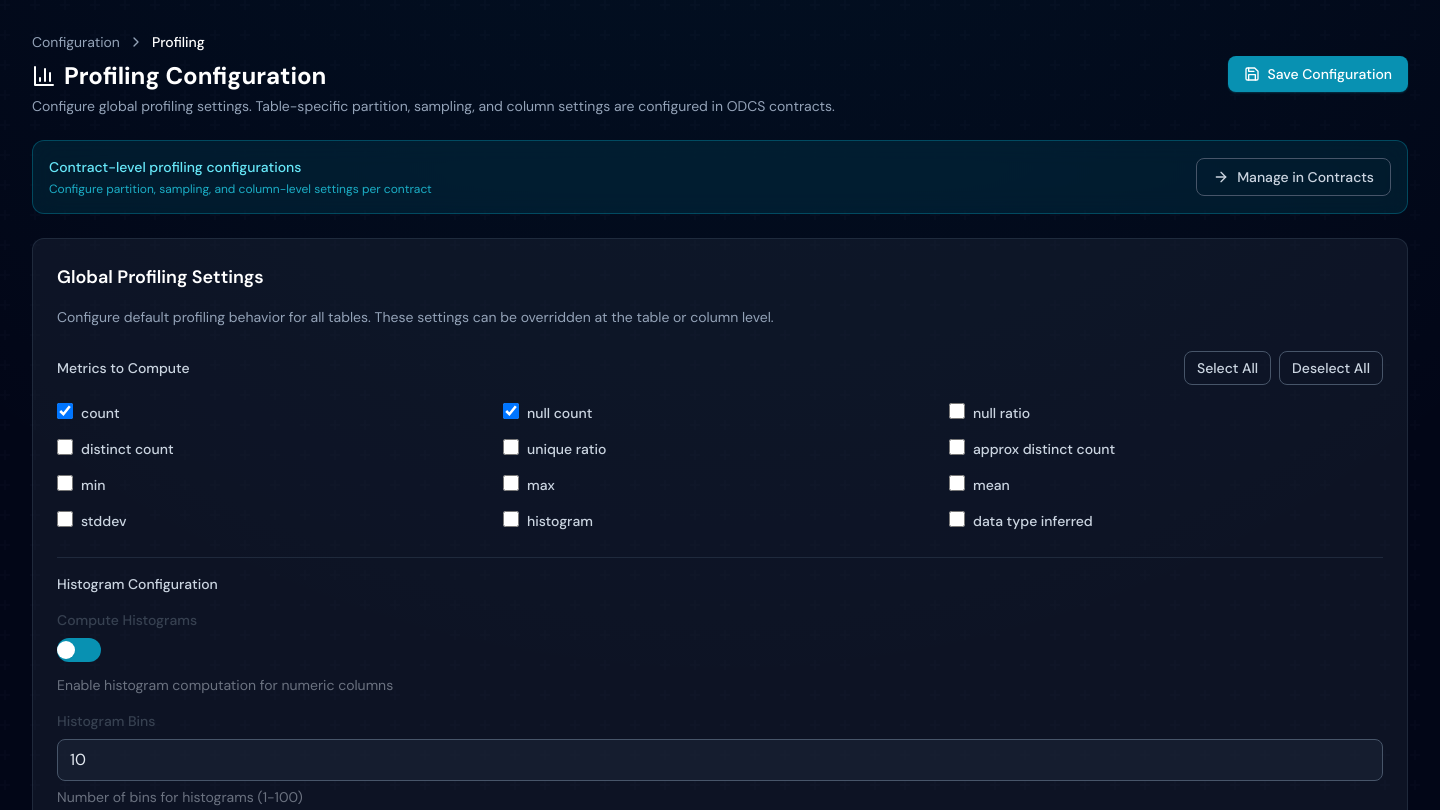
Test: ProfilingPage Integration › saves configuration
Click the button "Save Configuration" at (1318, 74), box [1228, 56, 1408, 92]
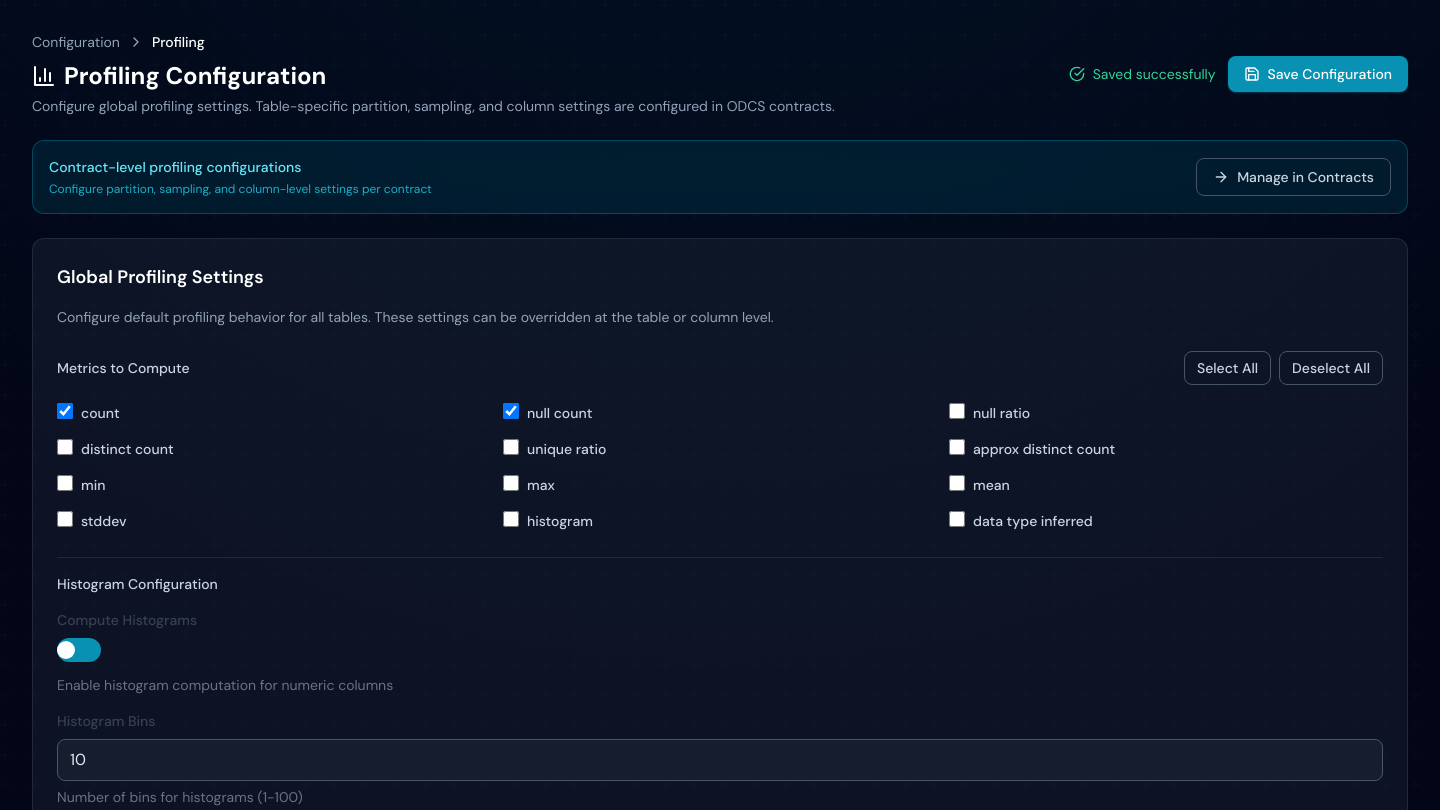
Result: the text "Saved successfully" is shown at [1093, 64, 1216, 84]
